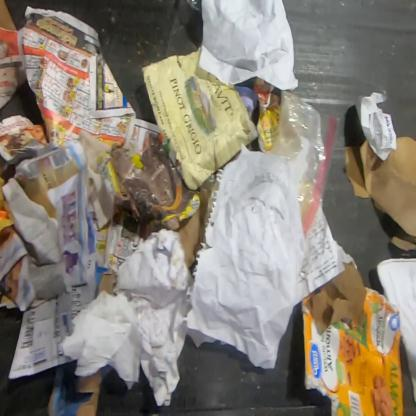cardboard: (300, 261, 405, 416), (343, 136, 415, 252), (43, 360, 115, 415), (175, 191, 212, 269), (93, 264, 119, 300), (0, 0, 18, 31)
soft_plastic: (267, 90, 338, 248)
